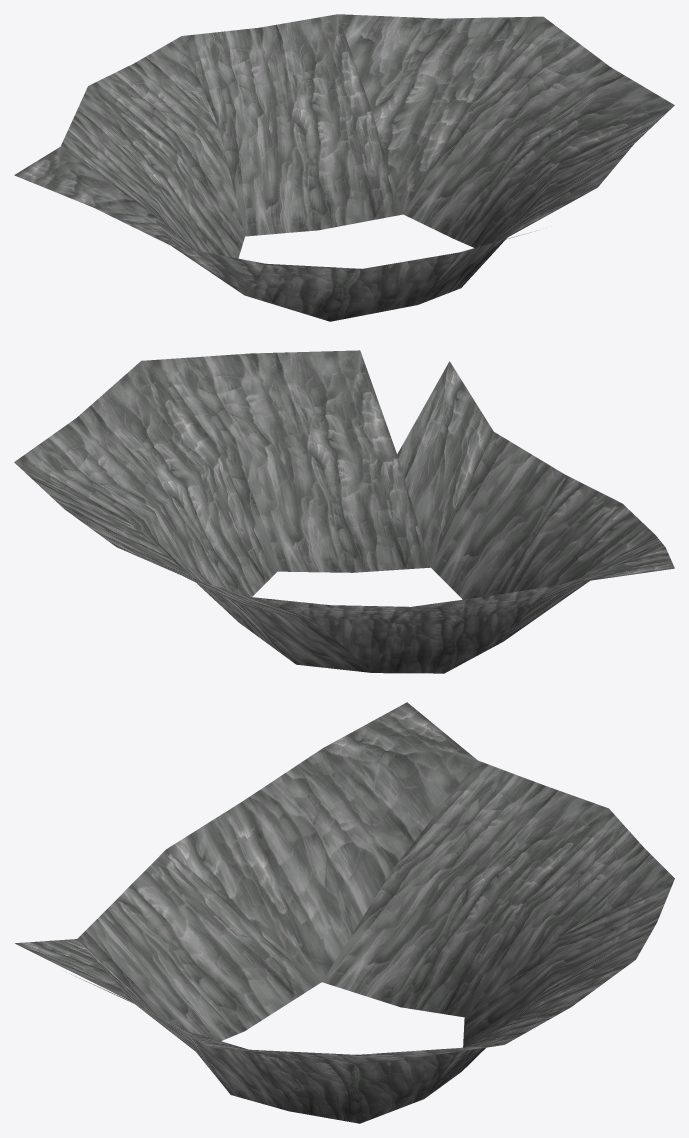
Rendered from SWORDLIGHT20_PS-AREA04_14.fbx.
The picture shows the model from 3 angles, top to bottom: view 1: azimuth 30°, elevation 25°; view 2: azimuth 150°, elevation 25°; view 3: azimuth 270°, elevation 25°; orthographic projection. The views are drawn at different scales.
Parts seen in each view (by area): view 1: SWORDLIGHT20_PS-AREA04_14; view 2: SWORDLIGHT20_PS-AREA04_14; view 3: SWORDLIGHT20_PS-AREA04_14.
Part boxes in pixels (x1=…): SWORDLIGHT20_PS-AREA04_14: x1=14, y1=14, x2=674, y2=321; SWORDLIGHT20_PS-AREA04_14: x1=14, y1=350, x2=674, y2=673; SWORDLIGHT20_PS-AREA04_14: x1=15, y1=702, x2=674, y2=1123.
Bounding box in the file's own units: 169587 × 44002 × 141830.
1 material, 1 textured.
